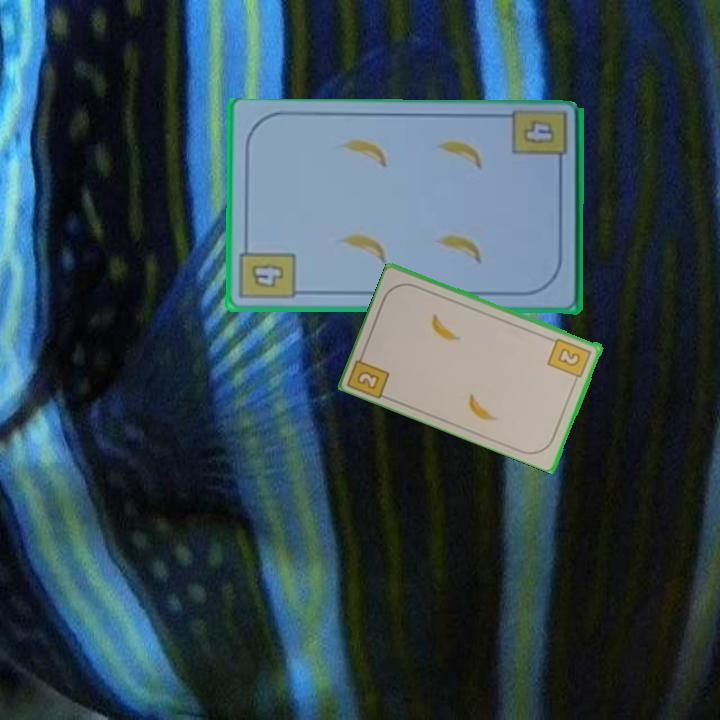2b: (346, 346, 393, 401), (544, 334, 594, 385)
4b: (237, 239, 298, 303), (519, 116, 558, 147)
